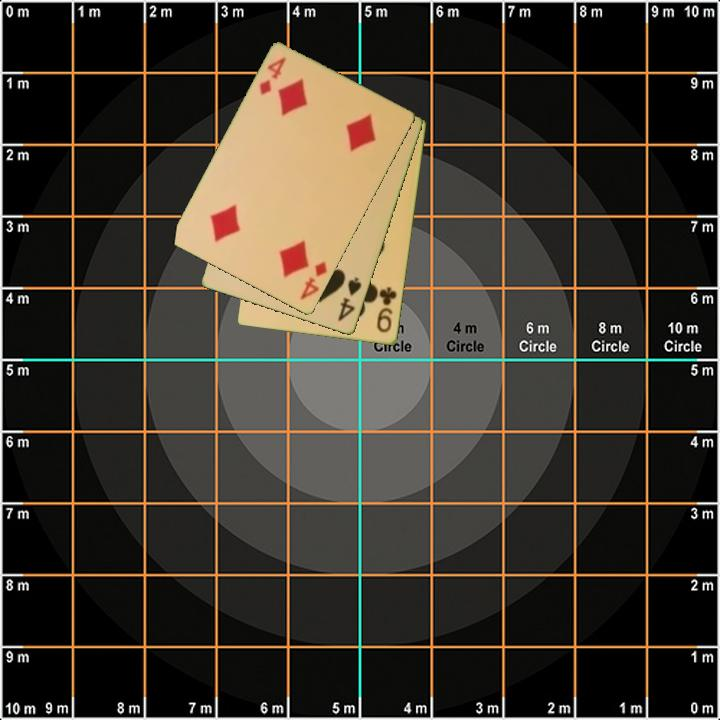4d: (297, 258, 330, 303), (256, 54, 289, 98)
4s: (334, 274, 365, 324)
9c: (373, 284, 400, 336)
